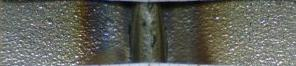soldas: (83, 1, 219, 64)
